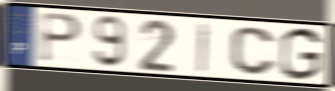2: (139, 16, 176, 75)
9: (91, 13, 128, 70)
C: (229, 25, 279, 78)
G: (279, 26, 324, 83)
I: (197, 21, 212, 74)
P: (38, 10, 84, 65)
